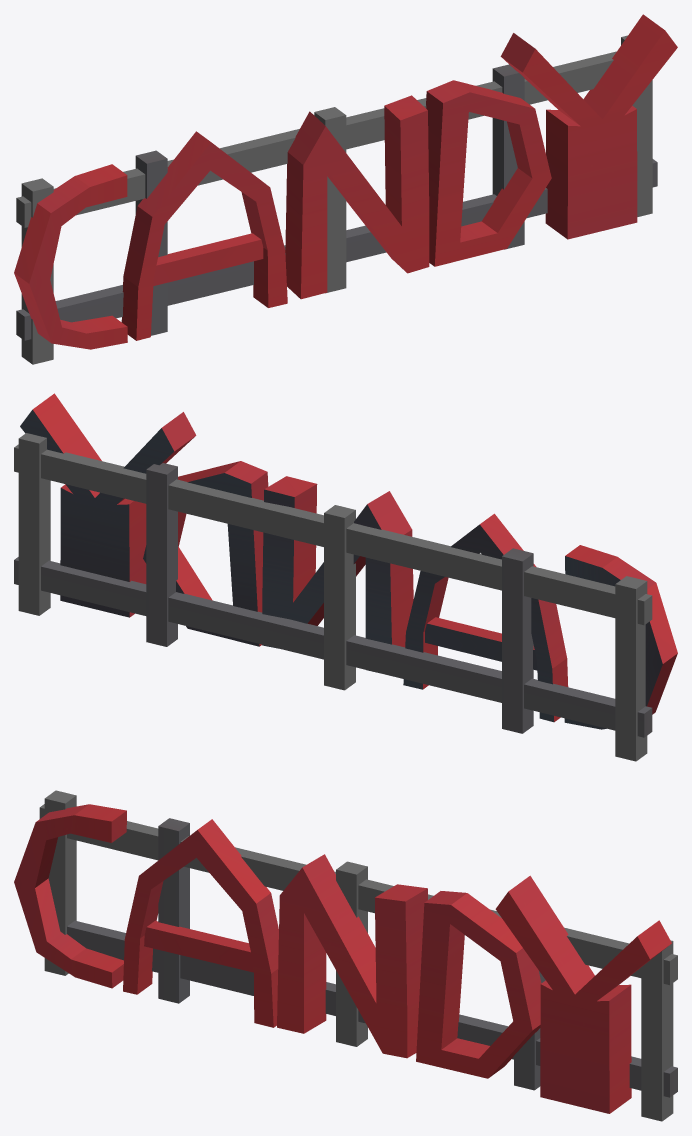
File: SM_Hoarding_08.FBX
3 renders of one model, top to bottom at view 1: azimuth 30°, elevation 25°; view 2: azimuth 150°, elevation 25°; view 3: azimuth 330°, elevation 25°, orthographic.
Visible parts, largest first — view 1: SM_Hoarding_08; view 2: SM_Hoarding_08; view 3: SM_Hoarding_08.
Part boxes in pixels (box(x1,y1,x2,y2)): SM_Hoarding_08: box(14, 14, 677, 364); SM_Hoarding_08: box(14, 393, 677, 761); SM_Hoarding_08: box(14, 790, 677, 1121).
Size of what is drawn, in the model's own units: 757 by 60.79 by 238.
